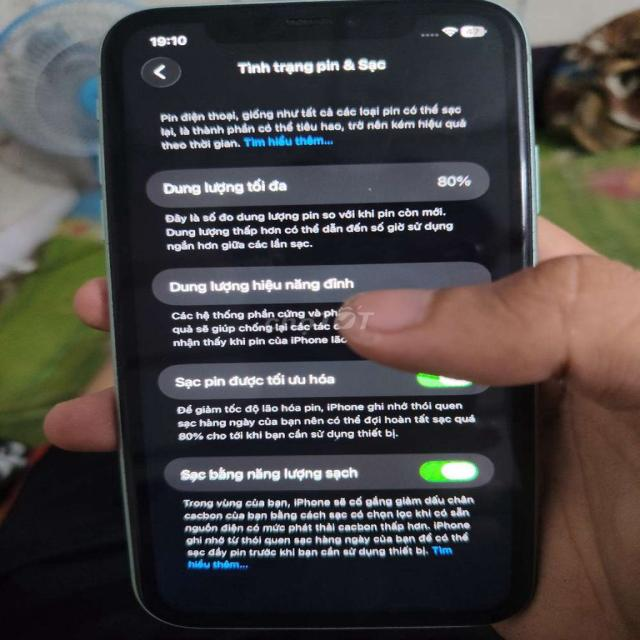gen_11: (98, 3, 555, 639)
